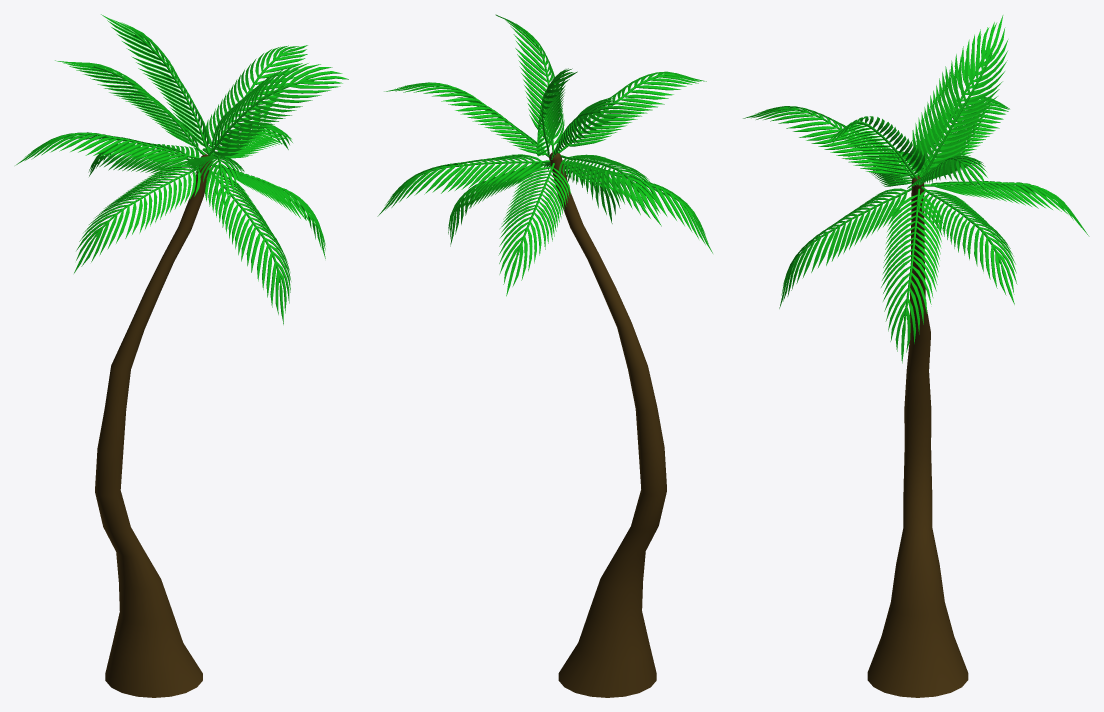
Rendered from tree.FBX.
3 renders of one model, left to right at view 1: azimuth 30°, elevation 25°; view 2: azimuth 150°, elevation 25°; view 3: azimuth 270°, elevation 25°, orthographic. The views are drawn at different scales.
Visible parts, largest first — view 1: tree; view 2: tree; view 3: tree.
Boxes of the visible parts, bbox=[...] form: tree: bbox=[15, 14, 348, 697]; tree: bbox=[377, 14, 712, 697]; tree: bbox=[743, 15, 1089, 697].
Size of the model in its own units: 905 by 1923 by 924.
